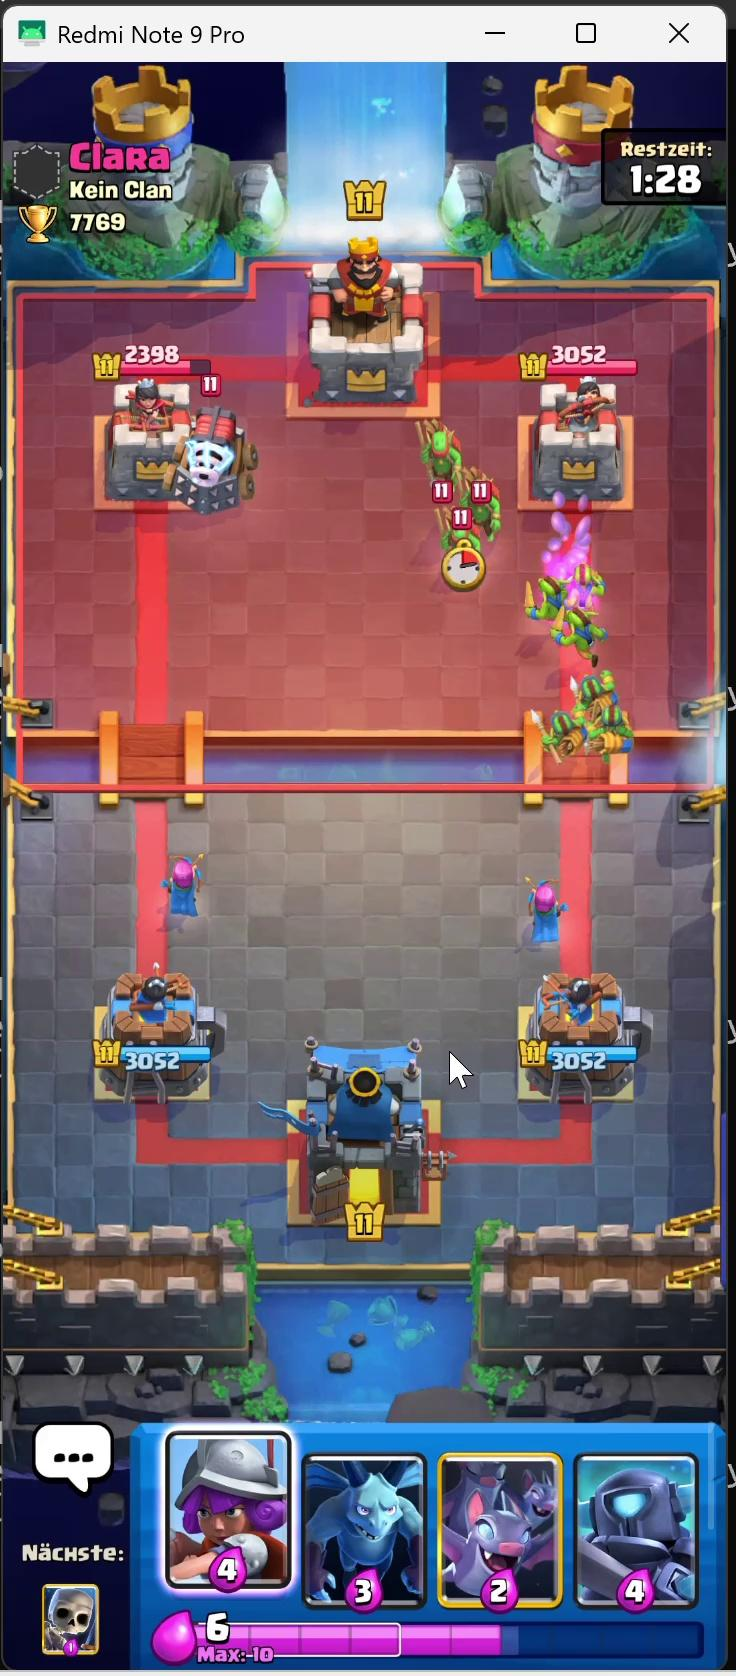archere: (528, 882, 568, 941), (169, 852, 207, 914)
gobelin: (535, 577, 564, 632), (573, 605, 599, 658), (574, 561, 599, 609)
gobelin_lances: (425, 433, 463, 524), (535, 709, 584, 762), (596, 707, 632, 764), (468, 477, 503, 531), (447, 519, 483, 569), (574, 678, 615, 714)
zappy: (177, 403, 253, 506)
